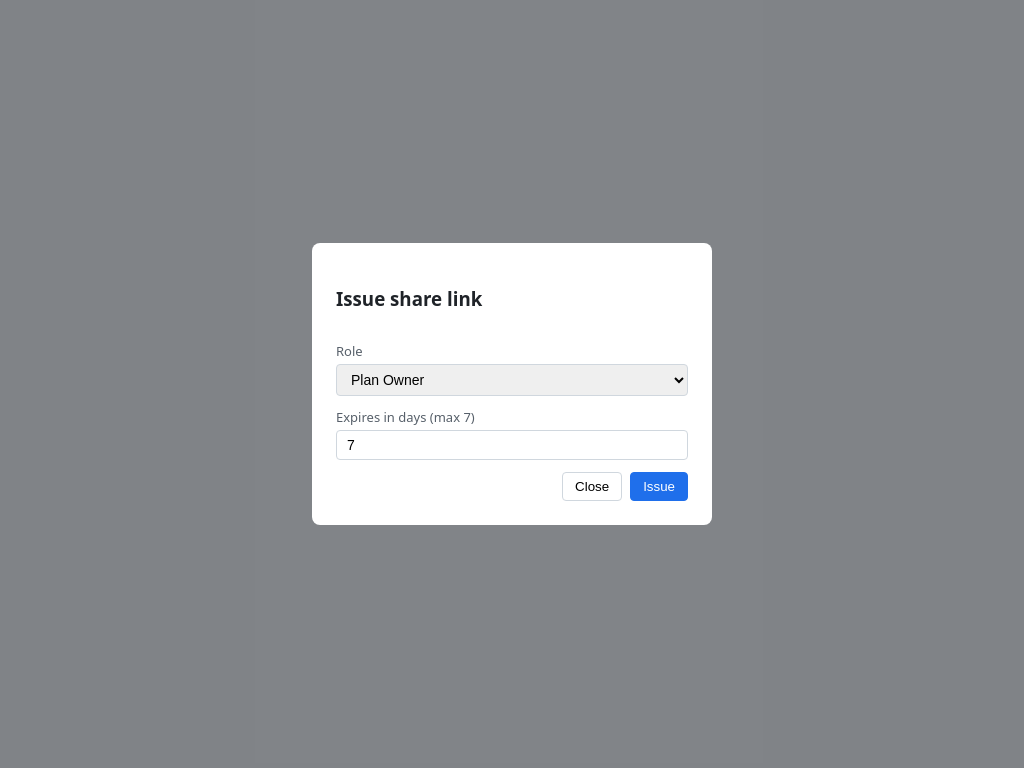
it: ShareLinkModal › shows the server error when the API rejects the request
Click the button with test id "share-issue": (659, 486) [630,472,688,501]
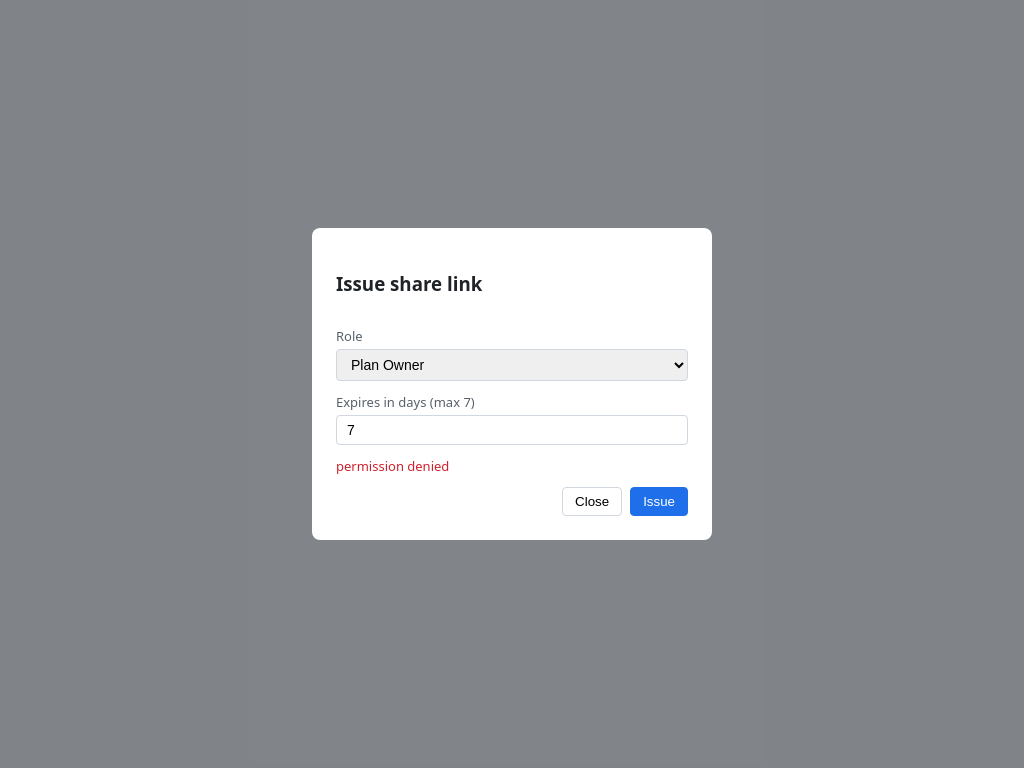
Check: the text "permission denied" is shown, box [336,457,449,475]
